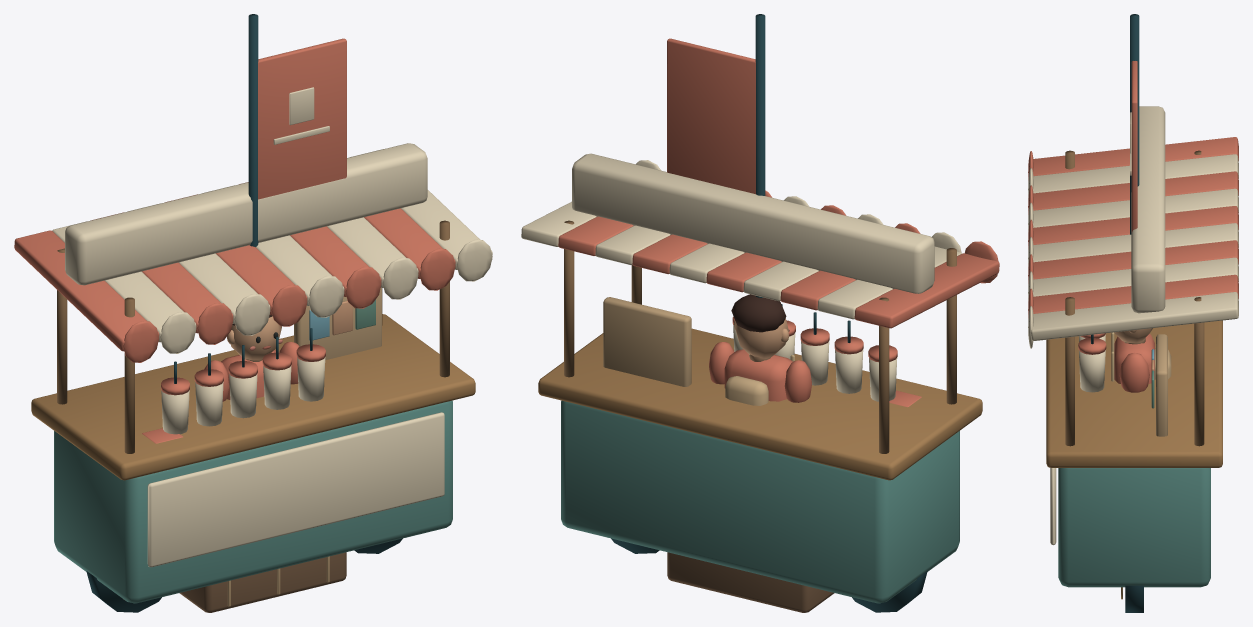
File: street-life.glb
The picture shows the model from 3 angles, left to right: view 1: azimuth 30°, elevation 25°; view 2: azimuth 150°, elevation 25°; view 3: azimuth 270°, elevation 25°; orthographic projection. The views are drawn at different scales.
Parts seen in each view (by area): view 1: kiosk, banner, flowers, visitor-body; view 2: kiosk, banner, visitor-body, flowers, visitor-arm-left, visitor-arm-right; view 3: kiosk, banner, visitor-body, visitor-arm-right.
Boxes of the visible parts, bbox=[...] form: kiosk: bbox=[14, 143, 492, 612]; banner: bbox=[248, 14, 346, 246]; flowers: bbox=[179, 552, 346, 612]; visitor-body: bbox=[221, 315, 282, 399]; kiosk: bbox=[521, 153, 999, 612]; banner: bbox=[667, 14, 765, 297]; visitor-body: bbox=[724, 294, 794, 405]; flowers: bbox=[667, 552, 834, 612]; visitor-arm-left: bbox=[784, 360, 811, 402]; visitor-arm-right: bbox=[709, 342, 734, 384]; kiosk: bbox=[1028, 106, 1238, 612]; banner: bbox=[1130, 14, 1139, 234]; visitor-body: bbox=[1111, 328, 1171, 383]; visitor-arm-right: bbox=[1119, 352, 1149, 392].
Bounding box in the file's own units: 2.41 × 3.5 × 1.24.
